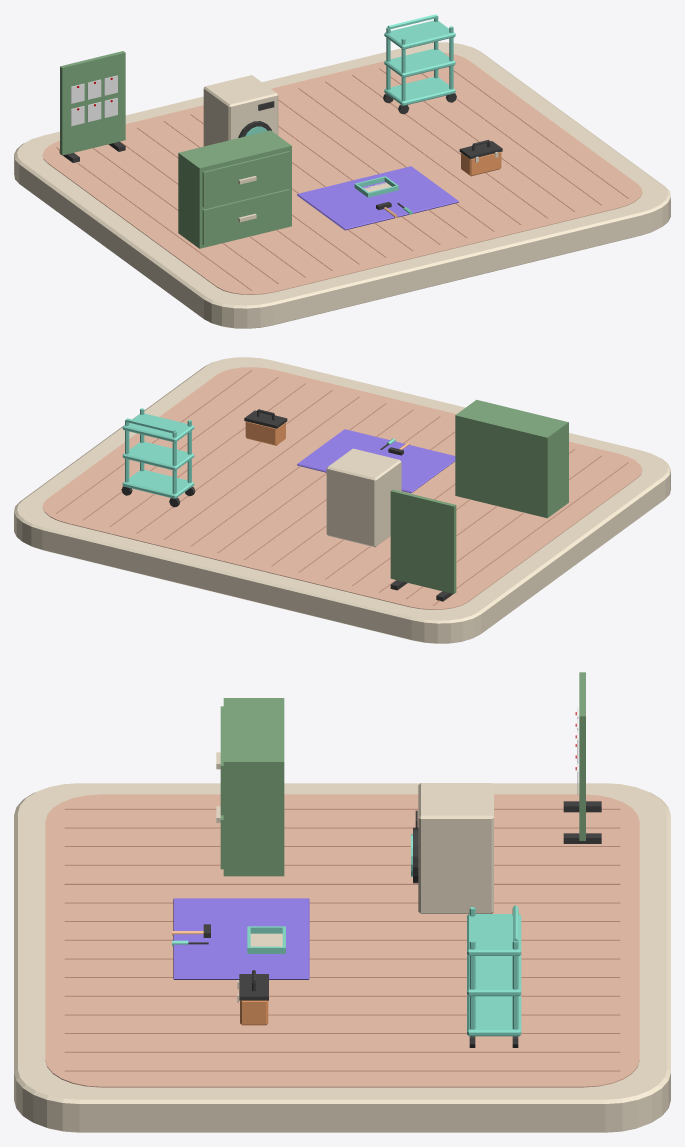
3 renders of one model, top to bottom at view 1: azimuth 30°, elevation 25°; view 2: azimuth 150°, elevation 25°; view 3: azimuth 270°, elevation 25°, orthographic. The views are drawn at different scales.
Visible parts, largest first — view 1: COM-02 Floor Surface, COM-01 Rounded Base Direct, Cabinet, Rug, Panel, Washing machine, Tray.002, Tray, Tray.001, Box; view 2: COM-02 Floor Surface, COM-01 Rounded Base Direct, Cabinet, Panel, Washing machine, Rug, Tray, Tray.001, Tray.002, Box, Lid; view 3: COM-02 Floor Surface, COM-01 Rounded Base Direct, Cabinet, Washing machine, Rug, Tray.002, Tray, Tray.001, Panel, Plank seam.013, Plank seam.014, Plank seam.004 (+10 smaller).
Boxes of the visible parts, left/top/right/bottom form: COM-02 Floor Surface: left=42, top=52, right=642, bottom=294; COM-01 Rounded Base Direct: left=14, top=42, right=670, bottom=328; Cabinet: left=178, top=130, right=291, bottom=248; Rug: left=297, top=166, right=458, bottom=230; Panel: left=60, top=51, right=125, bottom=155; Washing machine: left=203, top=75, right=278, bottom=146; Tray.002: left=384, top=20, right=455, bottom=49; Tray: left=384, top=77, right=455, bottom=105; Tray.001: left=384, top=48, right=455, bottom=77; Box: left=461, top=152, right=501, bottom=176; COM-02 Floor Surface: left=42, top=367, right=642, bottom=609; COM-01 Rounded Base Direct: left=14, top=357, right=670, bottom=643; Cabinet: left=455, top=399, right=568, bottom=518; Panel: left=390, top=489, right=456, bottom=593; Washing machine: left=326, top=448, right=401, bottom=547; Rug: left=297, top=429, right=455, bottom=493; Tray: left=122, top=470, right=194, bottom=498; Tray.001: left=122, top=441, right=194, bottom=470; Tray.002: left=122, top=413, right=194, bottom=442; Box: left=245, top=421, right=285, bottom=445; Lid: left=244, top=410, right=287, bottom=428; COM-02 Floor Surface: left=45, top=794, right=639, bottom=1087; COM-01 Rounded Base Direct: left=14, top=783, right=670, bottom=1132; Cabinet: left=216, top=698, right=284, bottom=876; Washing machine: left=418, top=783, right=493, bottom=913; Rug: left=173, top=898, right=309, bottom=979; Tray.002: left=467, top=914, right=521, bottom=955; Tray: left=467, top=995, right=521, bottom=1036; Tray.001: left=467, top=955, right=521, bottom=996; Panel: left=579, top=672, right=585, bottom=840; Plank seam.013: left=64, top=1051, right=620, bottom=1052; Plank seam.014: left=64, top=1070, right=620, bottom=1071; Plank seam.004: left=64, top=883, right=620, bottom=884.
Bounding box in the file's own units: 6 × 1.44 × 5.2.
1 material, 1 textured.
